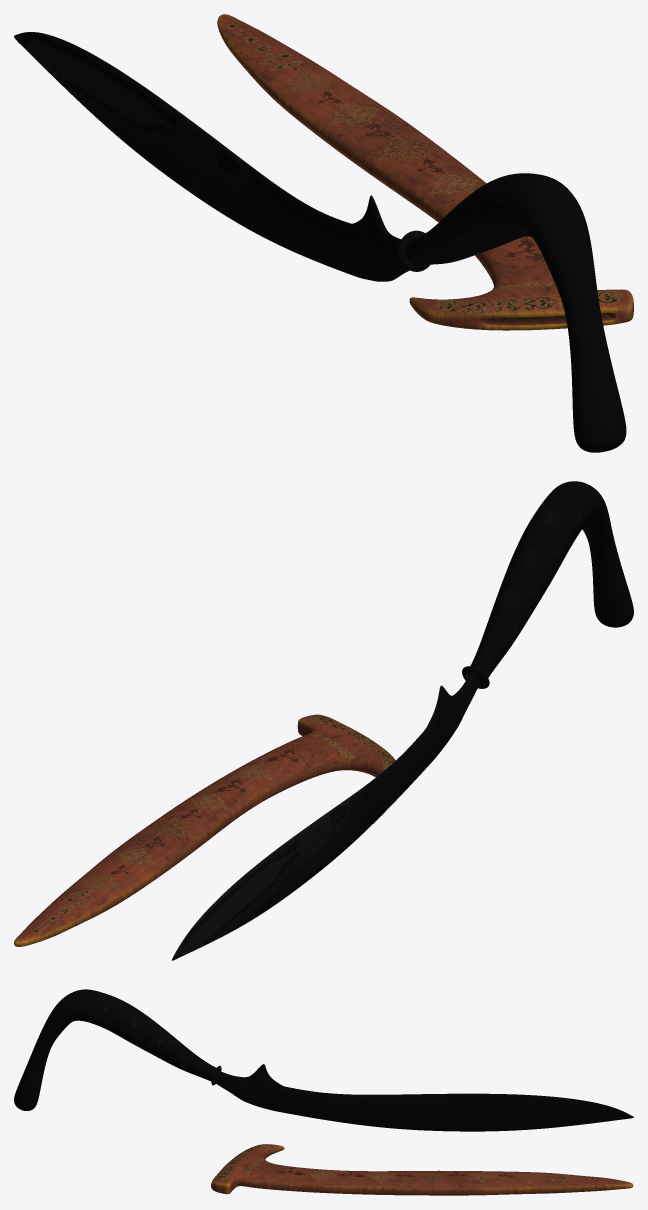
File: rencong.obj
3 renders of one model, top to bottom at view 1: azimuth 30°, elevation 25°; view 2: azimuth 150°, elevation 25°; view 3: azimuth 270°, elevation 25°, orthographic. The views are drawn at different scales.
Parts seen in each view (by area): view 1: __Plane, __Plane.001, __Cylinder; view 2: __Plane, __Plane.001, __Cylinder; view 3: __Plane.001, __Plane, __Cylinder.
Boxes of the visible parts, x1,y1,x2,y2 form: __Plane: (217,14,633,330); __Plane.001: (14,32,409,281); __Cylinder: (398,173,626,452); __Plane: (14,714,395,946); __Plane.001: (171,672,480,960); __Cylinder: (462,481,633,688); __Plane.001: (216,1064,633,1131); __Plane: (211,1144,633,1195); __Cylinder: (14,989,221,1110).
Bounding box in the file's own units: 3.36 × 3.55 × 13.31.
Materials: 3 (3 with a texture image).
